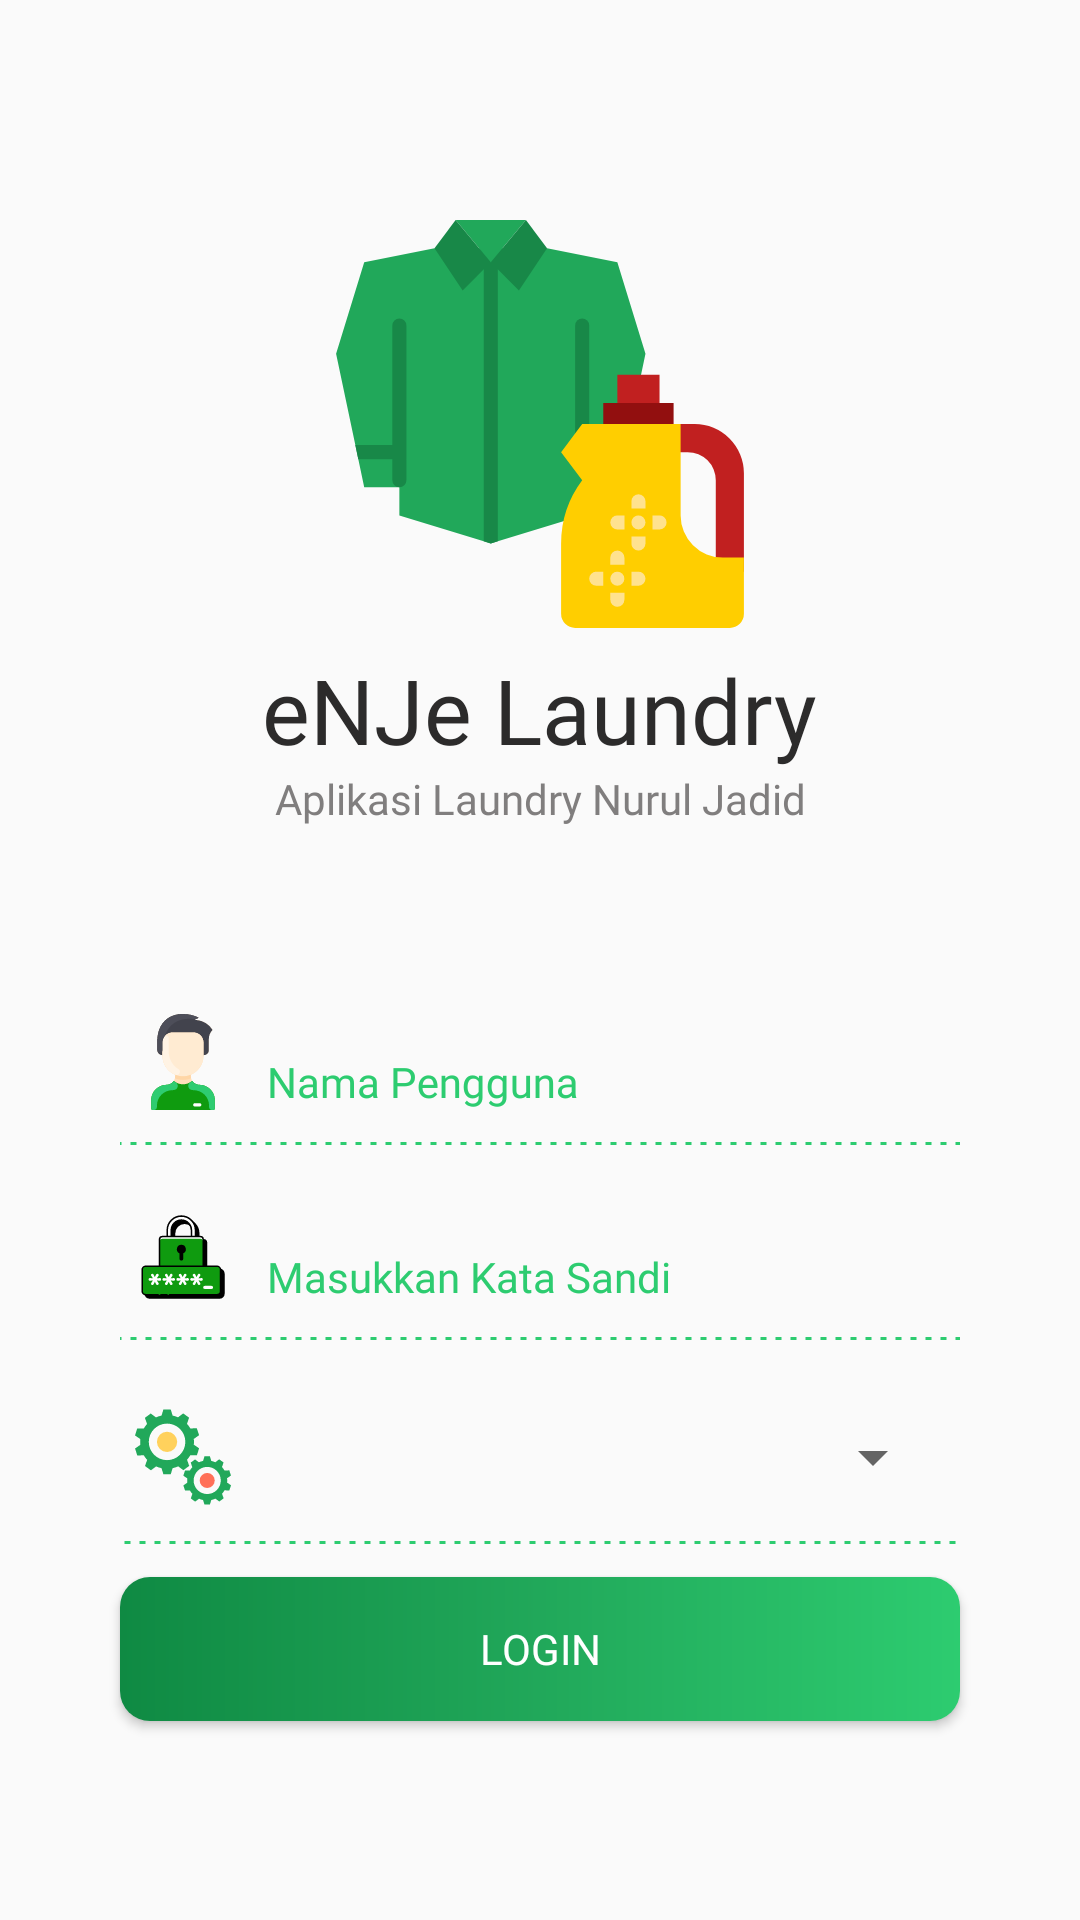

Named icons in this screenshot (1080px×1920px) and their centers, (x=x, y=y):
gear: (x=183, y=1457)
pass: (x=183, y=1257)
